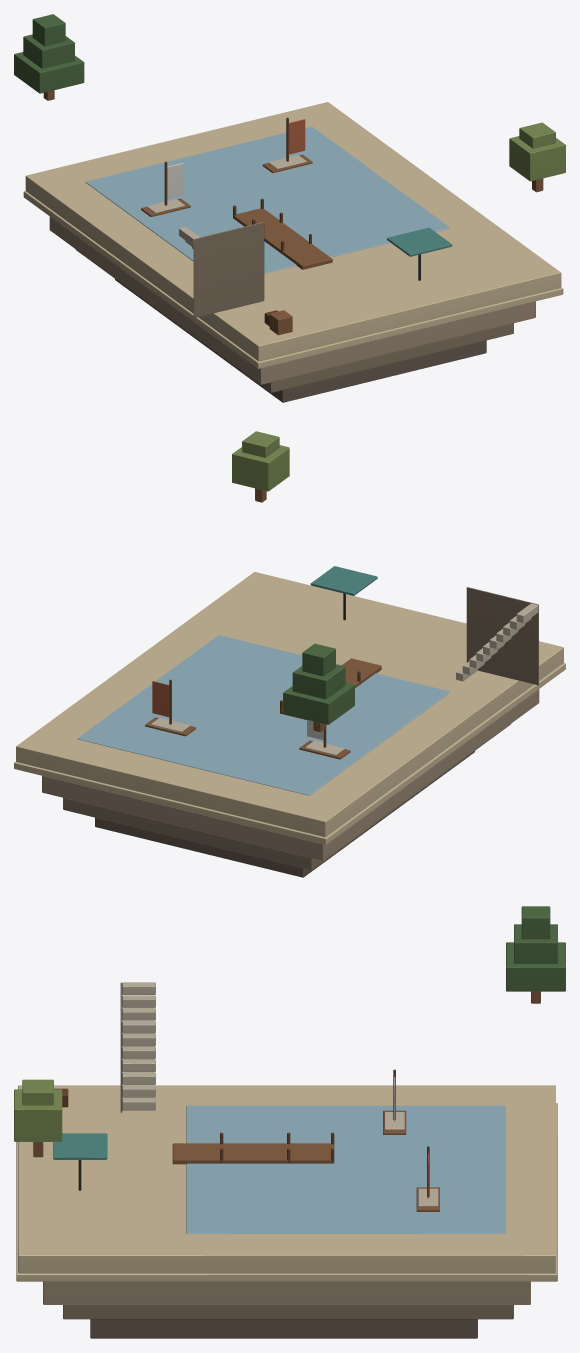
Rendered from region_08.glb.
3 views of the same model, one above another, from view 1: azimuth 30°, elevation 25°; view 2: azimuth 150°, elevation 25°; view 3: azimuth 270°, elevation 25° (orthographic). The views are drawn at different scales.
Visible parts, largest first — view 1: region_08_static, region_08_boatA, region_08_boatB; view 2: region_08_static, region_08_boatB, region_08_boatA; view 3: region_08_static, region_08_boatB, region_08_boatA.
Boxes of the visible parts, box(x1,y1,x2,y2) form: region_08_static: box(14, 14, 565, 402); region_08_boatA: box(141, 161, 190, 216); region_08_boatB: box(262, 117, 312, 172); region_08_static: box(14, 431, 565, 877); region_08_boatB: box(145, 679, 195, 736); region_08_boatA: box(299, 720, 350, 759); region_08_static: box(14, 906, 565, 1338); region_08_boatB: box(416, 1146, 439, 1211); region_08_boatA: box(383, 1069, 406, 1134).
Size of the model in its own units: 12.92 by 9.87 by 16.41.
